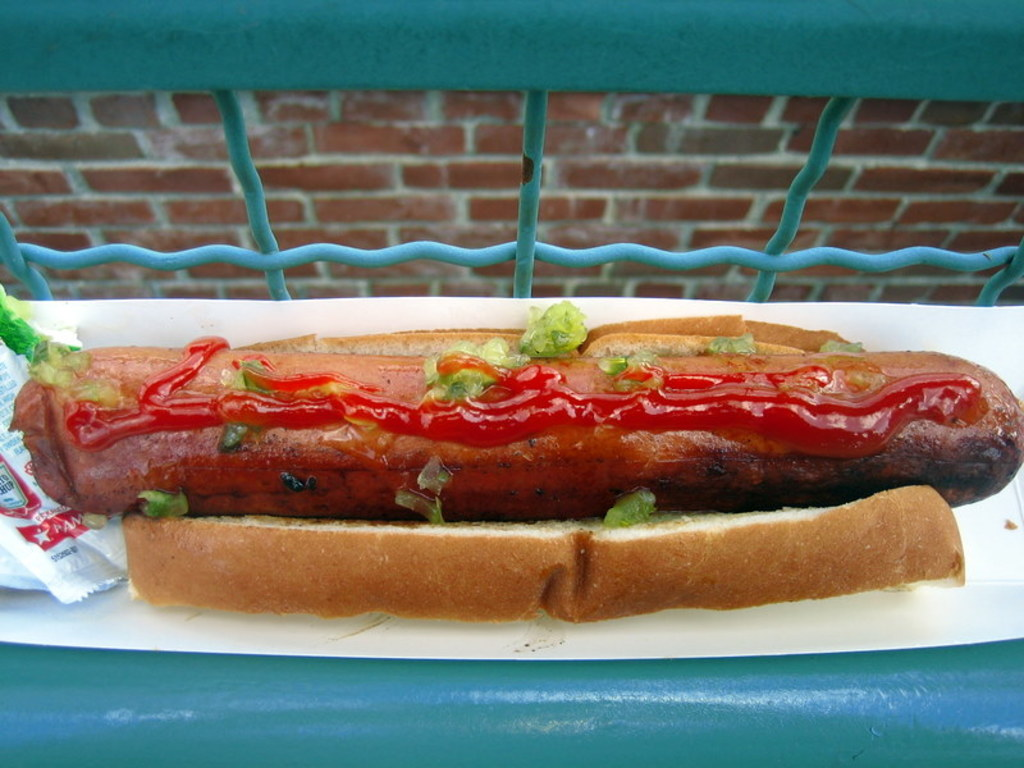hot_dog: (9, 306, 1023, 622)
